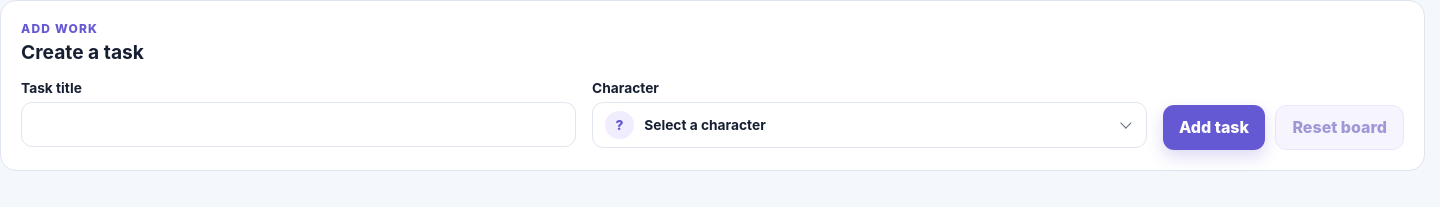
Scenario: CreateTaskForm › requires a title and character
Step 1. Click the button "Add task" → (1214, 127), box [1163, 105, 1265, 150]
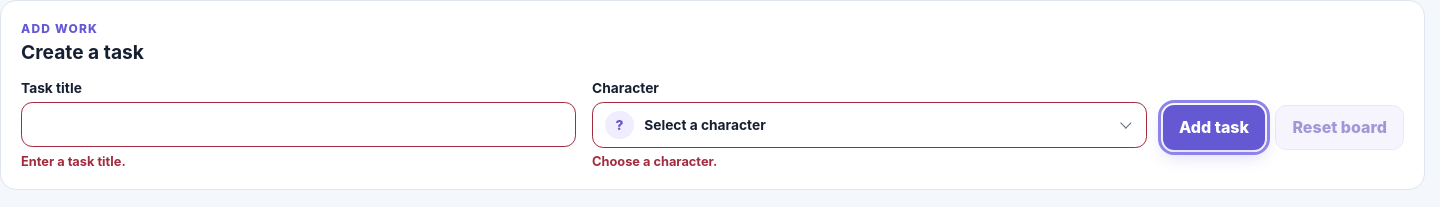
Now the text "Enter a task title." is shown, box [21, 154, 126, 169]
Now the text "Choose a character." is shown, box [592, 154, 717, 169]
